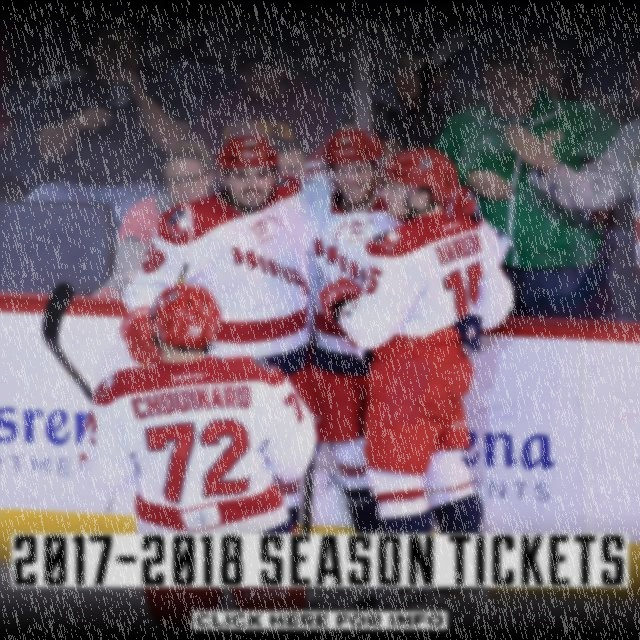pessoa: (317, 151, 507, 614), (121, 134, 479, 370), (86, 283, 318, 636), (308, 125, 484, 535), (433, 44, 624, 323), (26, 15, 195, 307), (0, 0, 639, 66), (501, 58, 628, 324), (90, 138, 222, 301), (186, 35, 338, 158), (344, 38, 462, 150), (0, 68, 25, 200), (272, 132, 304, 184), (382, 131, 407, 166)
